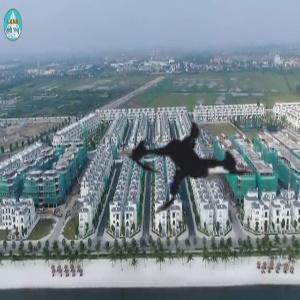drone: (83, 61, 300, 278)
